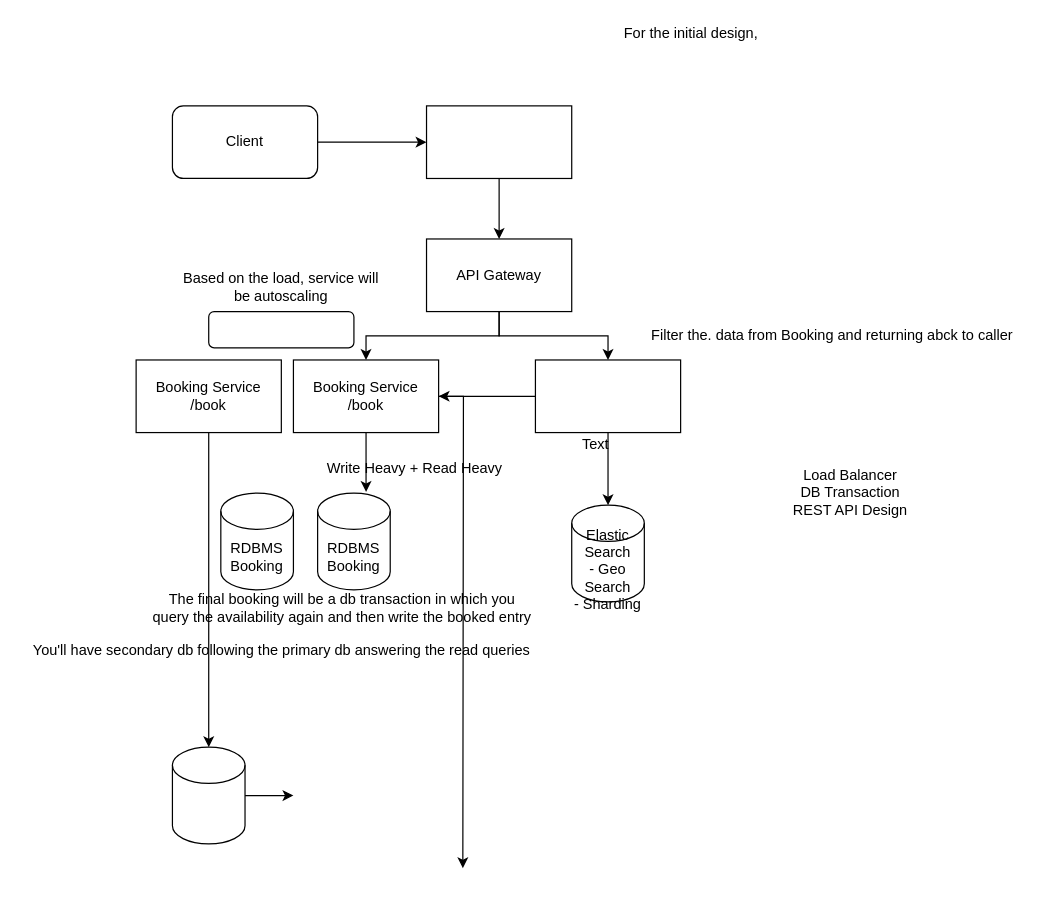
The diagram is 1039 pixels wide and 899 high, and some of its shapes have lost their labels. The box of each missing label's shape, as (x1, y1, x2, y2) in pixels:
Load Balancer: (208, 310, 354, 348)
Search Service search hotels: (534, 359, 681, 433)
WebApp (UI): (425, 105, 572, 178)
